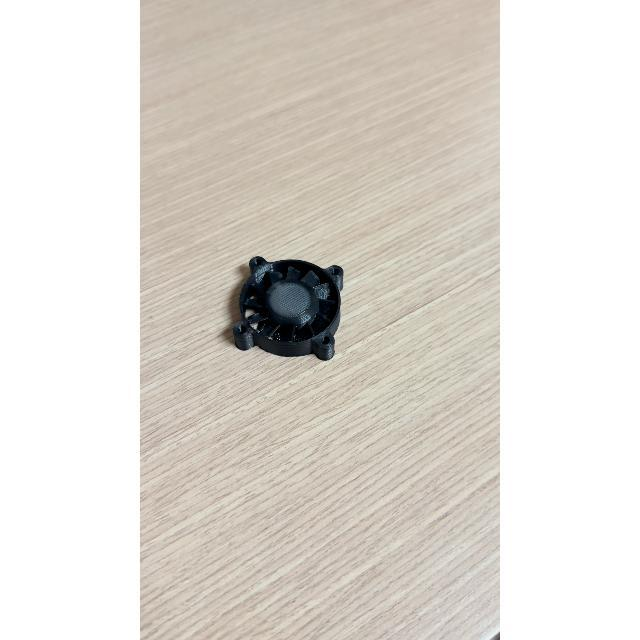Pieza4: (220, 242, 354, 372)
